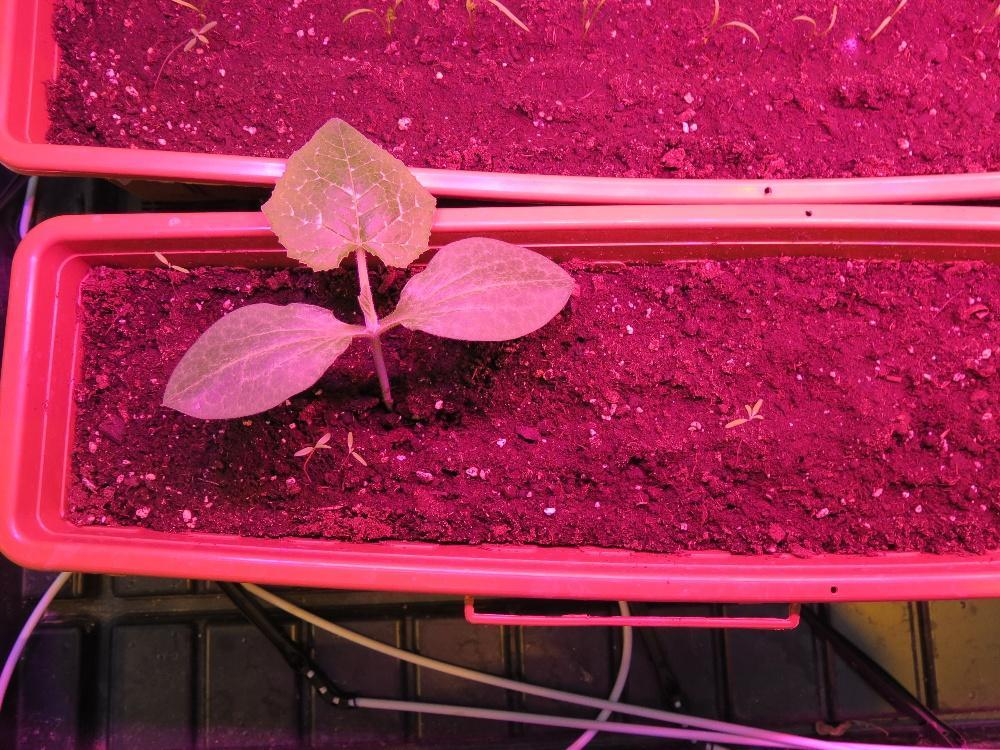weed: (721, 395, 764, 428), (181, 18, 217, 52), (291, 430, 332, 457), (152, 248, 189, 275), (345, 429, 368, 466)
